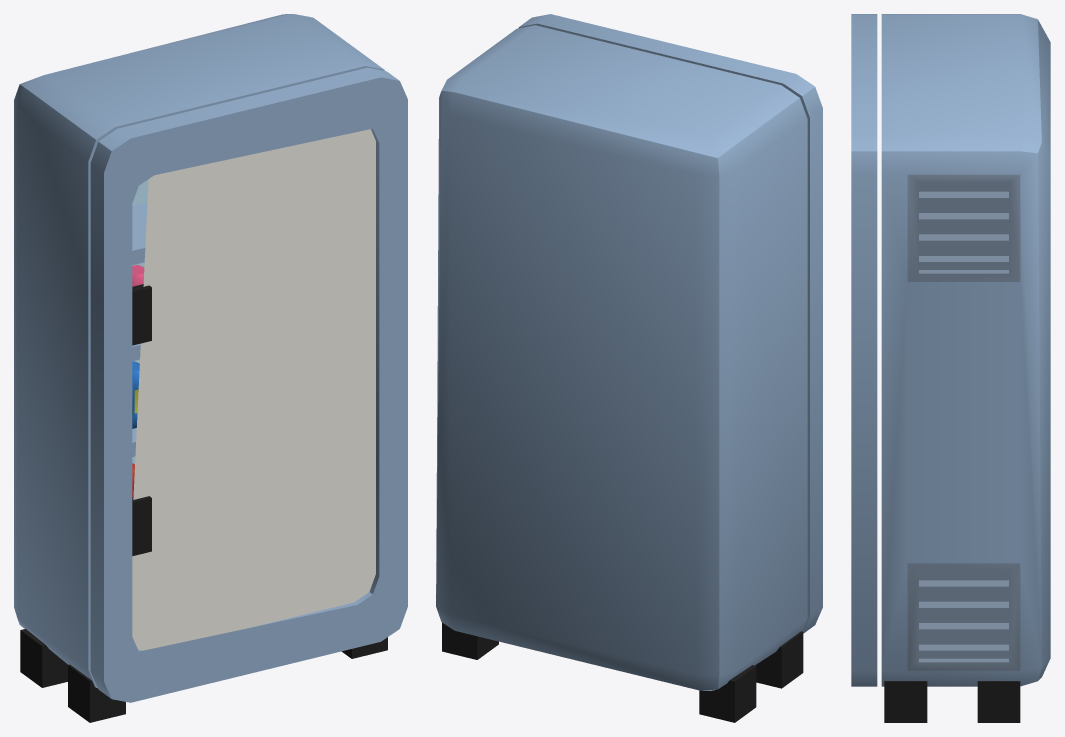
File: cc0-can-fridge-lod1.glb
The picture shows the model from 3 angles, left to right: view 1: azimuth 30°, elevation 25°; view 2: azimuth 150°, elevation 25°; view 3: azimuth 270°, elevation 25°; orthographic projection. The views are drawn at different scales.
Parts seen in each view (by area): view 1: part_0, part_1; view 2: part_0; view 3: part_0.
Part boxes in pixels (box(x1,y1,x2,y2)): part_0: box(14, 14, 407, 722); part_1: box(132, 129, 375, 650); part_0: box(436, 14, 822, 722); part_0: box(851, 14, 1050, 722).
Bounding box in the file's own units: 2.36 × 4.39 × 1.37.
2 materials, 1 textured.
